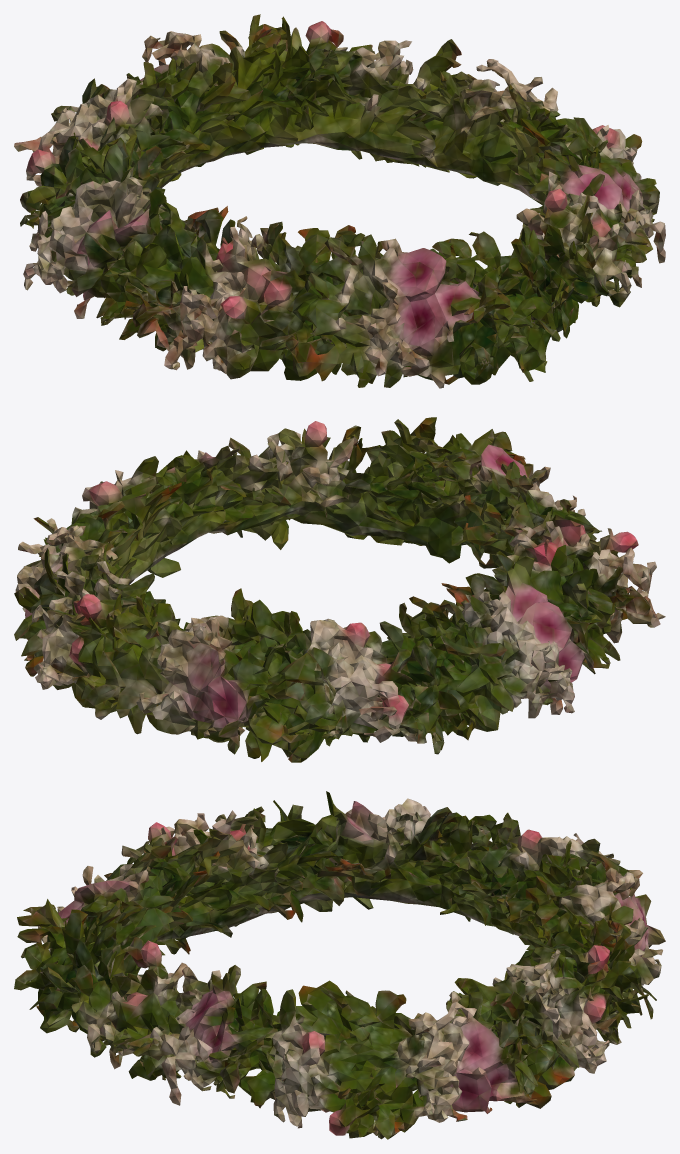
3 renders of one model, top to bottom at view 1: azimuth 30°, elevation 25°; view 2: azimuth 150°, elevation 25°; view 3: azimuth 270°, elevation 25°, orthographic. The views are drawn at different scales.
Parts seen in each view (by area): view 1: Blumenkranz_40k_1k; view 2: Blumenkranz_40k_1k; view 3: Blumenkranz_40k_1k.
Boxes of the visible parts, x1,y1,x2,y2 form: Blumenkranz_40k_1k: (14, 14, 665, 388); Blumenkranz_40k_1k: (14, 417, 665, 762); Blumenkranz_40k_1k: (14, 791, 665, 1139).
Size of the model in its own units: 0.3062 by 0.0761 by 0.3102.
1 material, 1 textured.
